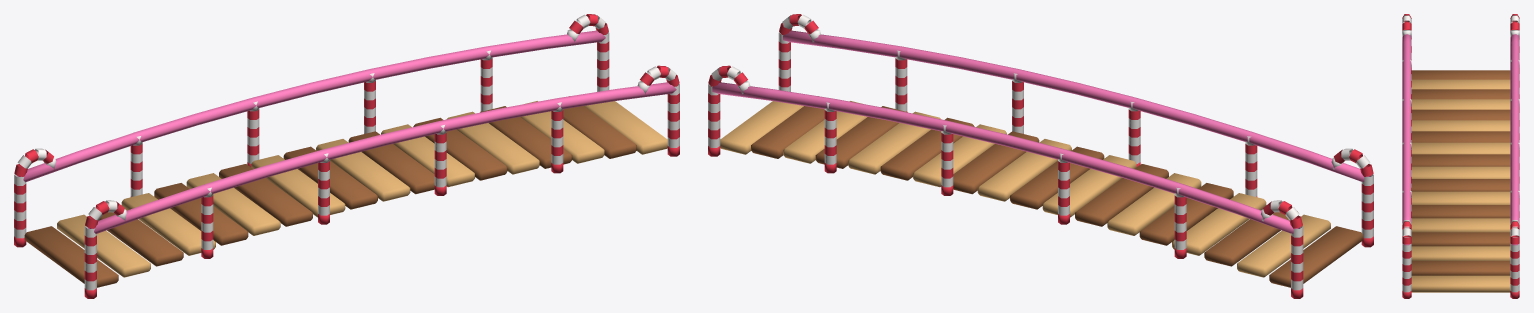
The model's file is candy_bridge.glb.
The picture shows the model from 3 angles, left to right: view 1: azimuth 30°, elevation 25°; view 2: azimuth 150°, elevation 25°; view 3: azimuth 270°, elevation 25°; orthographic projection. The views are drawn at different scales.
Parts seen in each view (by area): view 1: C_Bridge__C_bisc_8, C_Bridge__C_choc_8, C_Bridge__C_pink_2, C_Bridge__C_red_2, C_Bridge__C_white_2; view 2: C_Bridge__C_bisc_8, C_Bridge__C_choc_8, C_Bridge__C_pink_2, C_Bridge__C_red_2, C_Bridge__C_white_2; view 3: C_Bridge__C_bisc_8, C_Bridge__C_choc_8, C_Bridge__C_pink_2, C_Bridge__C_white_2, C_Bridge__C_red_2.
Part boxes in pixels (x1=…): C_Bridge__C_bisc_8: x1=57, y1=101, x2=667, y2=277; C_Bridge__C_choc_8: x1=24, y1=96, x2=636, y2=287; C_Bridge__C_pink_2: x1=17, y1=30, x2=676, y2=233; C_Bridge__C_red_2: x1=14, y1=14, x2=679, y2=298; C_Bridge__C_white_2: x1=14, y1=14, x2=679, y2=290; C_Bridge__C_bisc_8: x1=720, y1=101, x2=1330, y2=277; C_Bridge__C_choc_8: x1=751, y1=96, x2=1363, y2=287; C_Bridge__C_pink_2: x1=712, y1=30, x2=1370, y2=233; C_Bridge__C_red_2: x1=708, y1=14, x2=1373, y2=298; C_Bridge__C_white_2: x1=708, y1=14, x2=1373, y2=290; C_Bridge__C_bisc_8: x1=1411, y1=79, x2=1510, y2=292; C_Bridge__C_choc_8: x1=1411, y1=70, x2=1510, y2=275; C_Bridge__C_pink_2: x1=1402, y1=34, x2=1519, y2=245; C_Bridge__C_white_2: x1=1402, y1=15, x2=1519, y2=292; C_Bridge__C_red_2: x1=1402, y1=14, x2=1519, y2=298.
Bounding box in the file's own units: 10.16 × 1.5 × 2.28.
